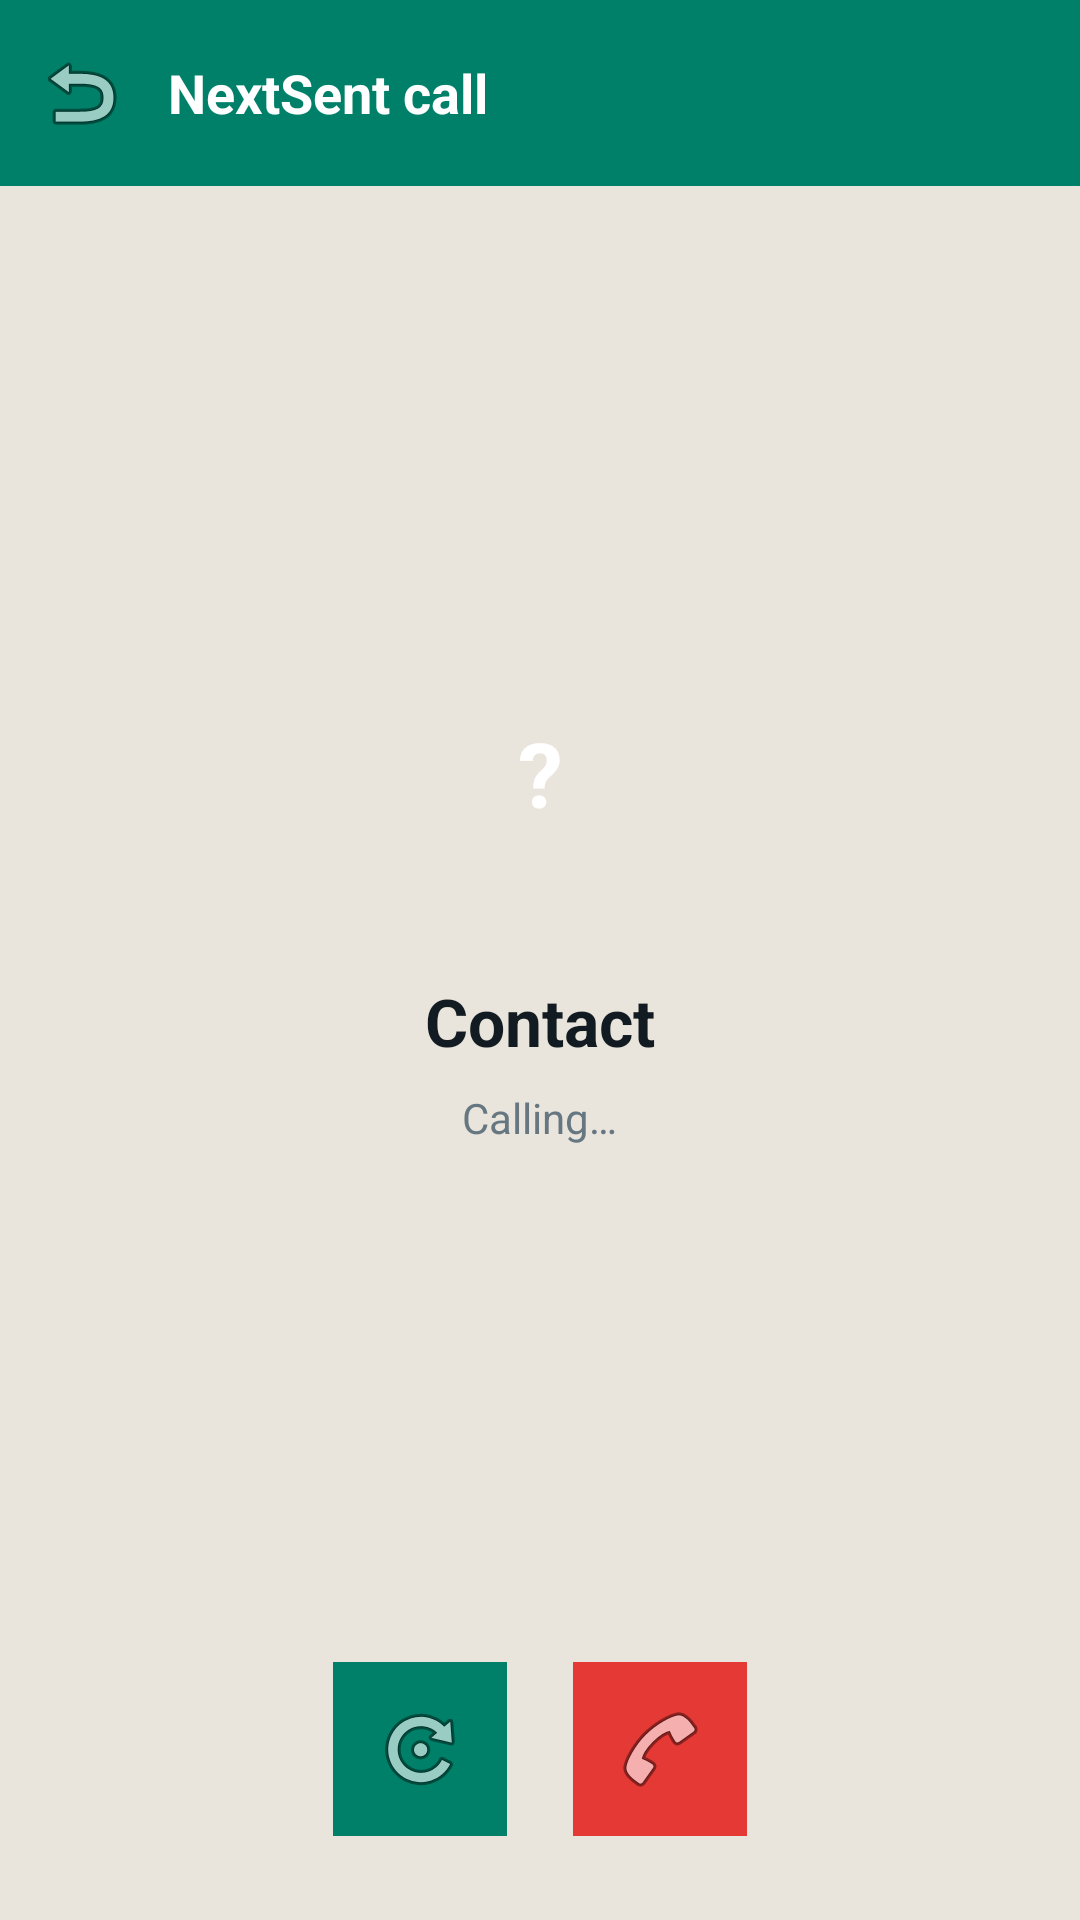

Where to tap for icons on this 1080px×1920px app screen, as (x,y):
Back: (82,94)
End Call: (660,1749)
